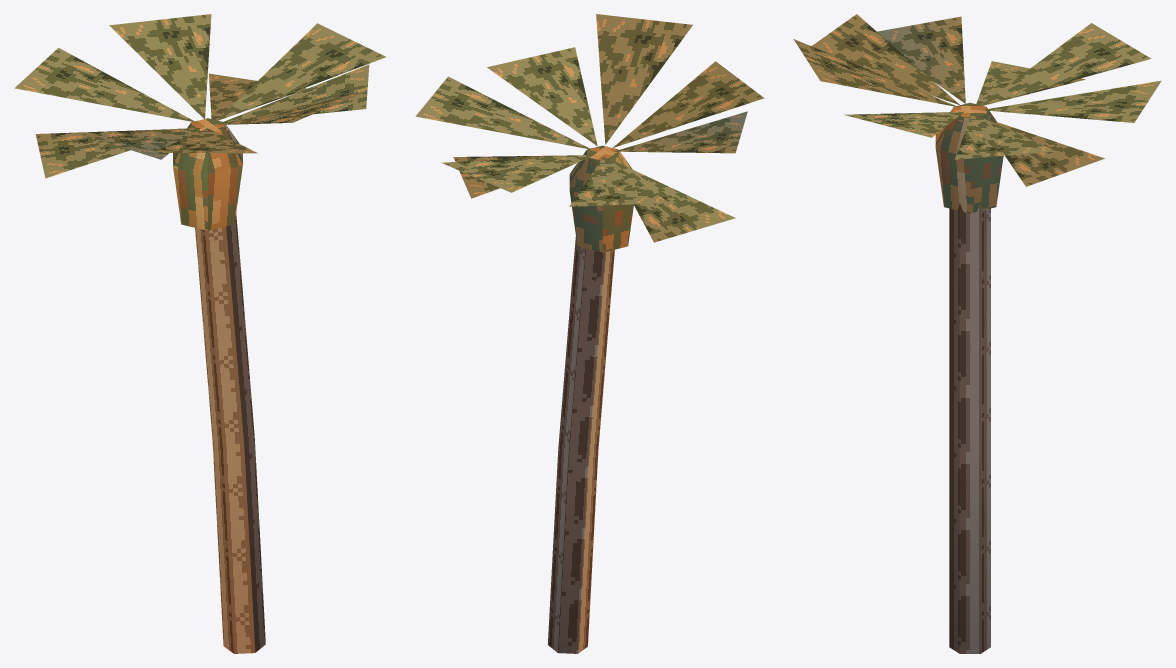
The model's file is wland.palm.glb.
3 renders of one model, left to right at view 1: azimuth 30°, elevation 25°; view 2: azimuth 150°, elevation 25°; view 3: azimuth 270°, elevation 25°, orthographic. The views are drawn at different scales.
Parts seen in each view (by area): view 1: kit_card_fronds_back, kit_trunks, kit_skirts; view 2: kit_card_fronds_back, kit_trunks, kit_skirts; view 3: kit_card_fronds_back, kit_trunks, kit_skirts.
Part boxes in pixels (box(x1,y1,x2,y2)): kit_card_fronds_back: box(14, 14, 385, 178); kit_trunks: box(195, 127, 265, 653); kit_skirts: box(173, 118, 242, 230); kit_card_fronds_back: box(415, 14, 764, 242); kit_trunks: box(547, 154, 622, 653); kit_skirts: box(569, 145, 633, 252); kit_card_fronds_back: box(793, 14, 1161, 186); kit_trunks: box(949, 114, 990, 653); kit_skirts: box(935, 102, 1003, 213).
Bounding box in the file's own units: 3.86 × 6.87 × 3.9.
3 materials, 3 textured.
